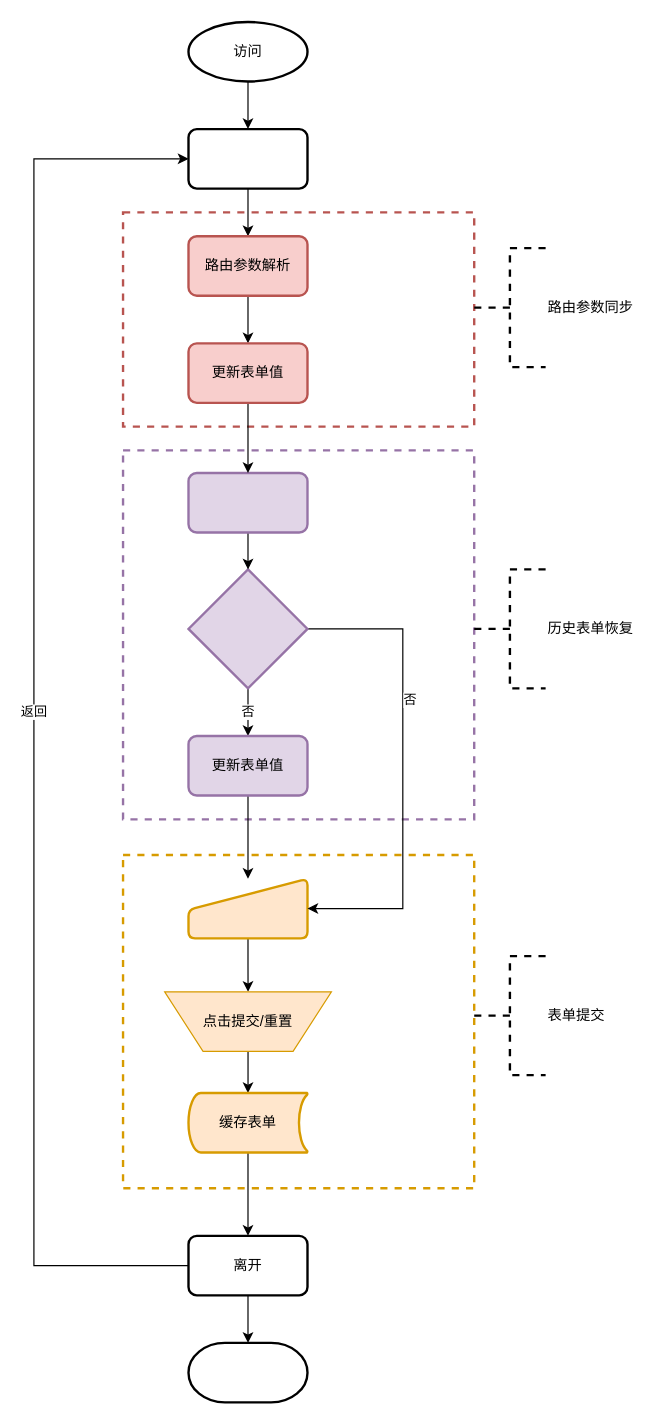
This 653x1423 diagram has some shape labels left out. Here are the shapes that lost their labels. From the top down, the centre of each, then its label:
At point (247, 158): "初始化表单".
At point (247, 502): "缓存查询".
At point (247, 628): "是否有缓存？".
At point (247, 908): "输入数据".
At point (247, 1372): "结束".
